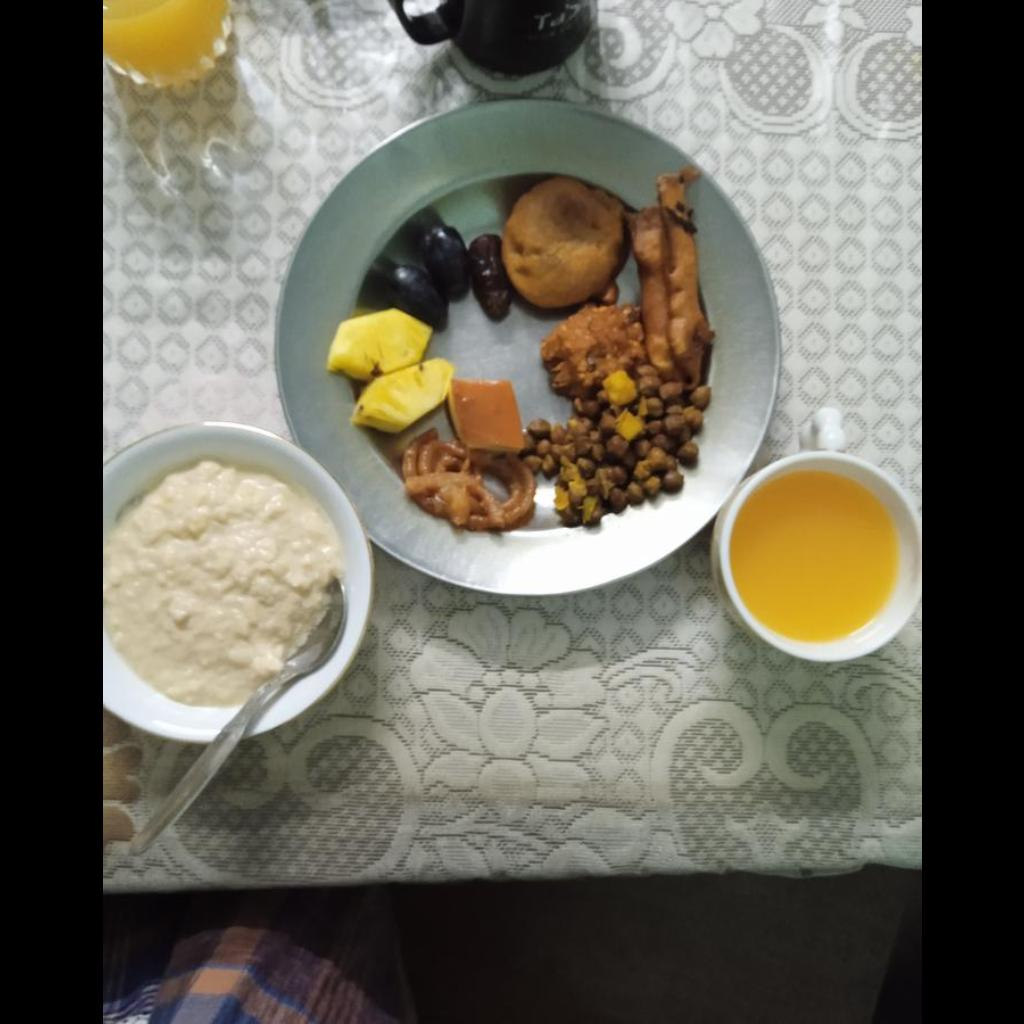beguni: (634, 167, 711, 378)
chola: (532, 382, 710, 530)
chop-alu: (503, 186, 620, 310)
dates: (371, 209, 468, 330), (468, 234, 512, 320)
jilapi: (403, 437, 533, 529)
juice: (729, 473, 897, 643)
payesh: (102, 457, 342, 708)
pineapple: (325, 310, 454, 435)
piyaju: (539, 304, 647, 398)
sweets: (446, 380, 523, 451)
